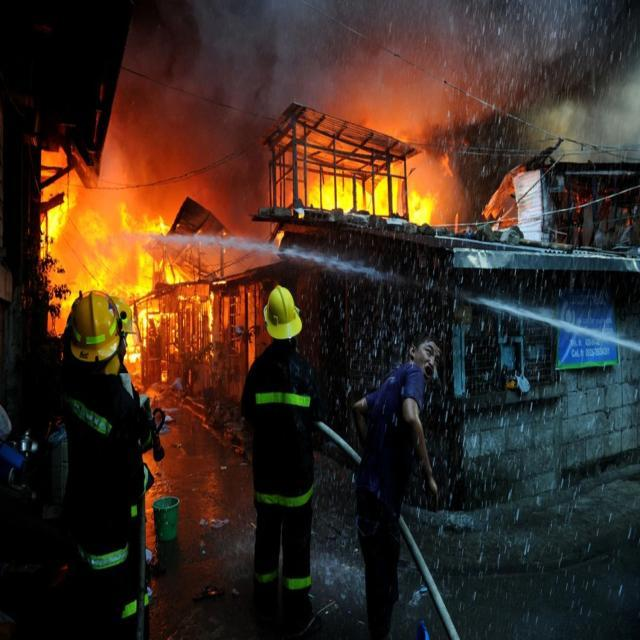Fire: (54, 182, 174, 300), (306, 153, 439, 236), (132, 299, 198, 381)
Smoke: (133, 0, 598, 179)
